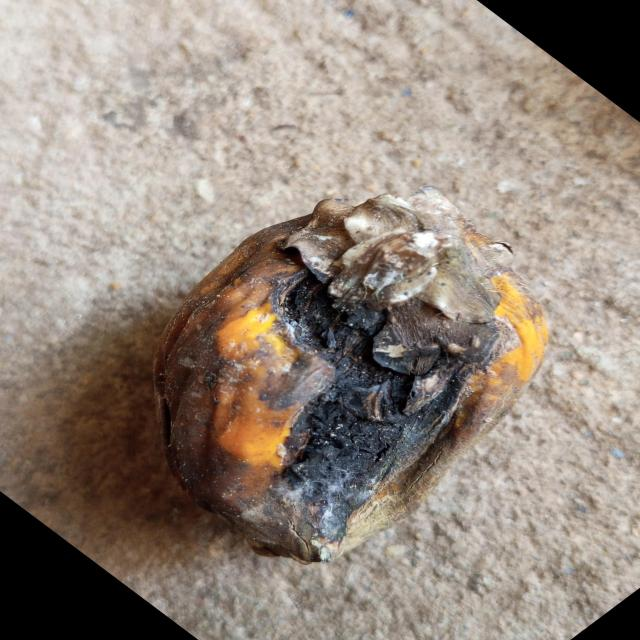damaged: (153, 190, 550, 565)
